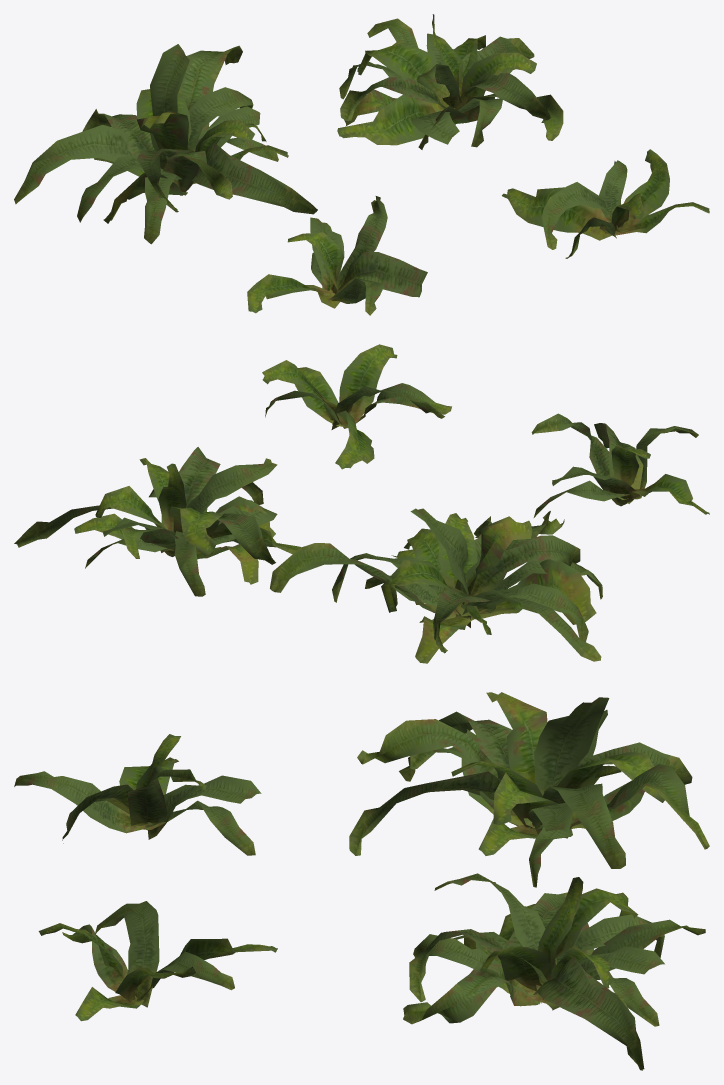
File: fern_02.glb
The picture shows the model from 3 angles, top to bottom: view 1: azimuth 30°, elevation 25°; view 2: azimuth 150°, elevation 25°; view 3: azimuth 270°, elevation 25°; orthographic projection. The views are drawn at different scales.
Parts seen in each view (by area): view 1: fern_02_b, fern_02_c, fern_02_a, fern_02_d; view 2: fern_02_b, fern_02_c, fern_02_d, fern_02_a; view 3: fern_02_b, fern_02_c, fern_02_a, fern_02_d.
Part boxes in pixels (x1,y1,x2,y2): fern_02_b: (14, 44, 317, 244); fern_02_c: (337, 14, 563, 149); fern_02_a: (247, 196, 427, 315); fern_02_d: (502, 149, 709, 258); fern_02_b: (270, 508, 602, 663); fern_02_c: (14, 447, 300, 596); fern_02_d: (262, 344, 451, 469); fern_02_a: (531, 413, 709, 517); fern_02_b: (349, 692, 709, 887); fern_02_c: (403, 873, 705, 1070); fern_02_a: (14, 734, 261, 855); fern_02_d: (38, 901, 277, 1021).
Size of the model in its own units: 1.97 by 0.4277 by 1.72.
1 material, 1 textured.
